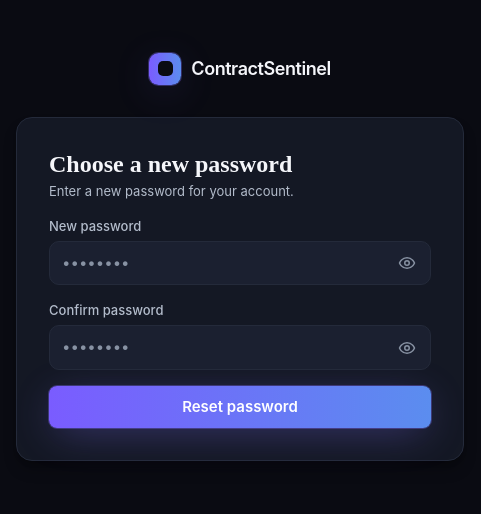
Test: /reset › shows a generic error on an invalid/expired token (400)
The image size is (481, 514).
In the password field labelled "New password": coordinates (240, 263) [49,241,431,285], type "NewPassw0rd!"
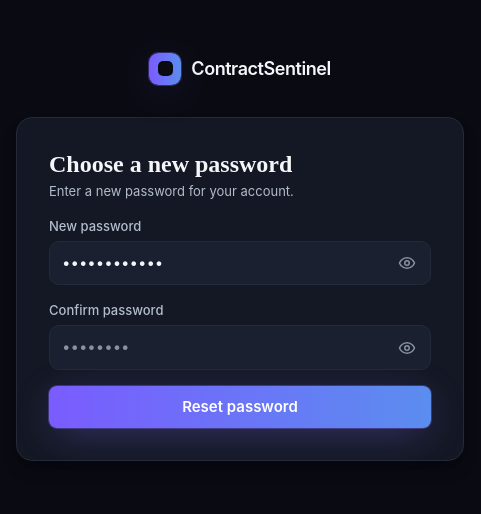
In the password field labelled "Confirm password": coordinates (240, 348) [49,325,431,370], type "NewPassw0rd!"
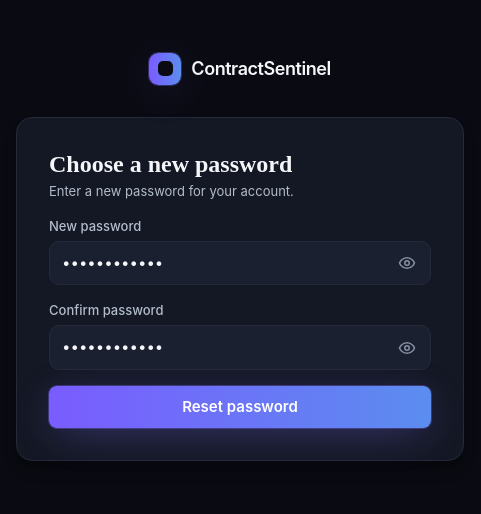
Click the button "Reset password": coordinates (240, 407) [49,386,431,428]
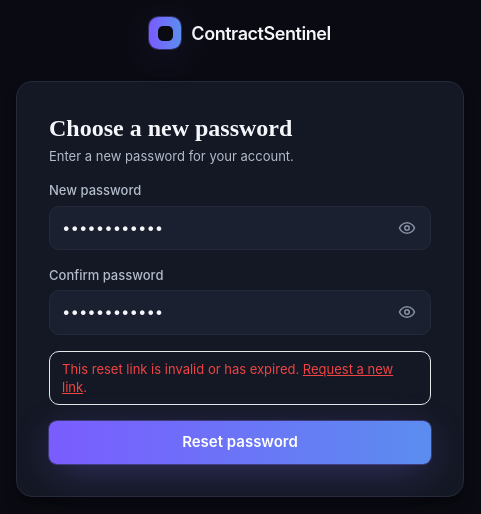
Result: the text "This reset link is invalid or has expired. Request a new link ." is shown at [49,351,431,405]
